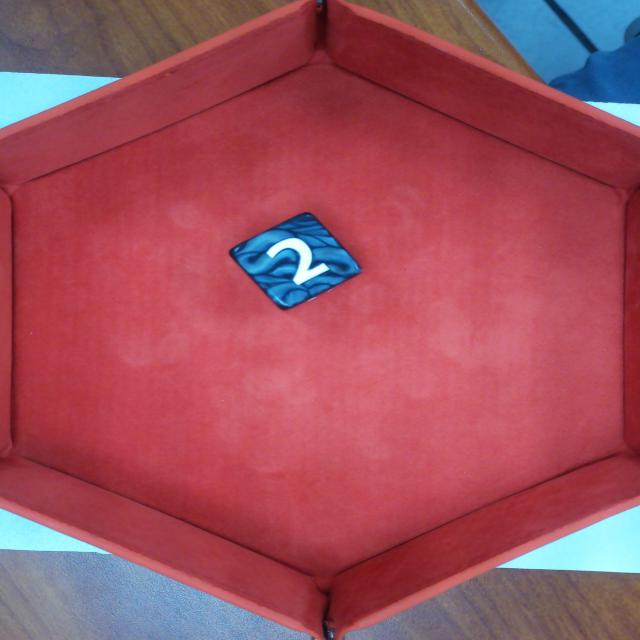dice: (224, 210, 367, 316)
